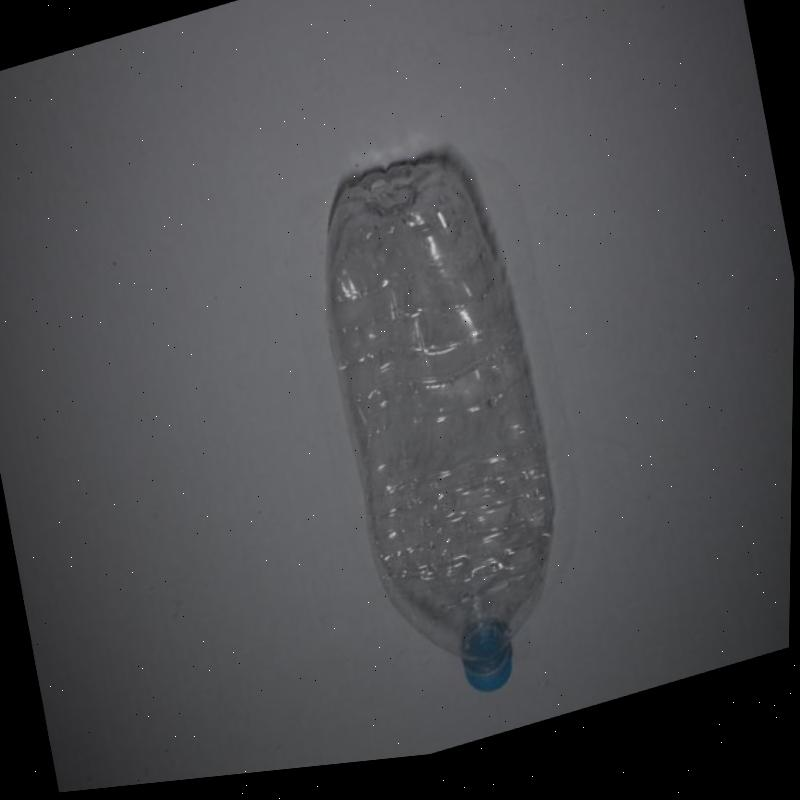botella: (297, 139, 592, 737)
